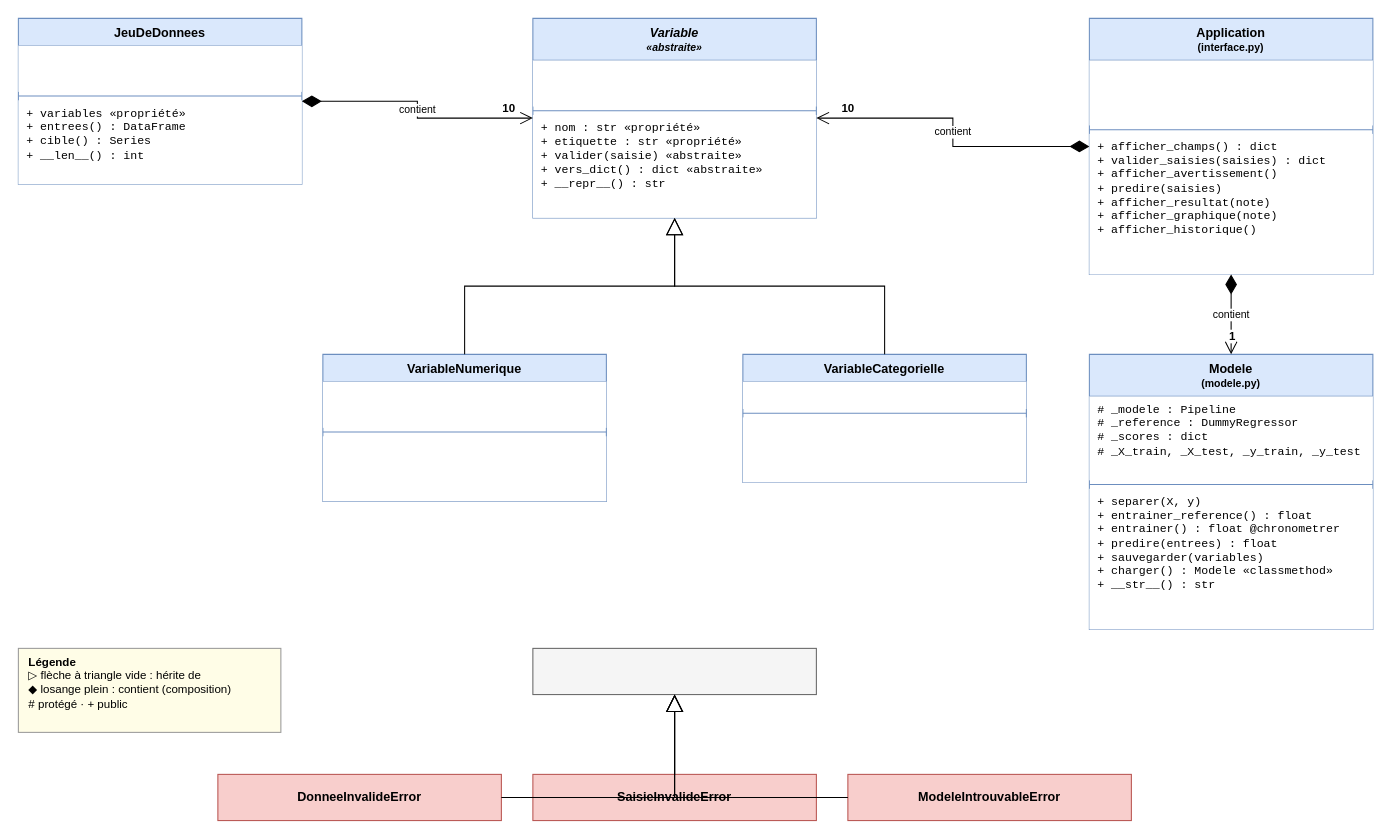
Some shapes in this 1391 by 839 pixel diagram are drawn without their labels. The shapes that lost their labels are listed below. From the top down, each one's centre as x and y in pixels, then its label:
point (159, 68): # _df : DataFrame # _variables : list[Variable]
point (674, 83): # _nom : str # _etiquette : str
point (1230, 92): # _modele : Modele # _metadonnees : dict # _variables : list[Variable]
point (464, 404): # _minimum : float # _maximum : float
point (884, 394): # _valeurs : list[str]
point (464, 468): + minimum, maximum «propriétés» + valider(saisie) : float + vers_dict() : dict
point (884, 449): + valeurs «propriété» + valider(saisie) : str + vers_dict() : dict
point (674, 671): Exception (Python)
